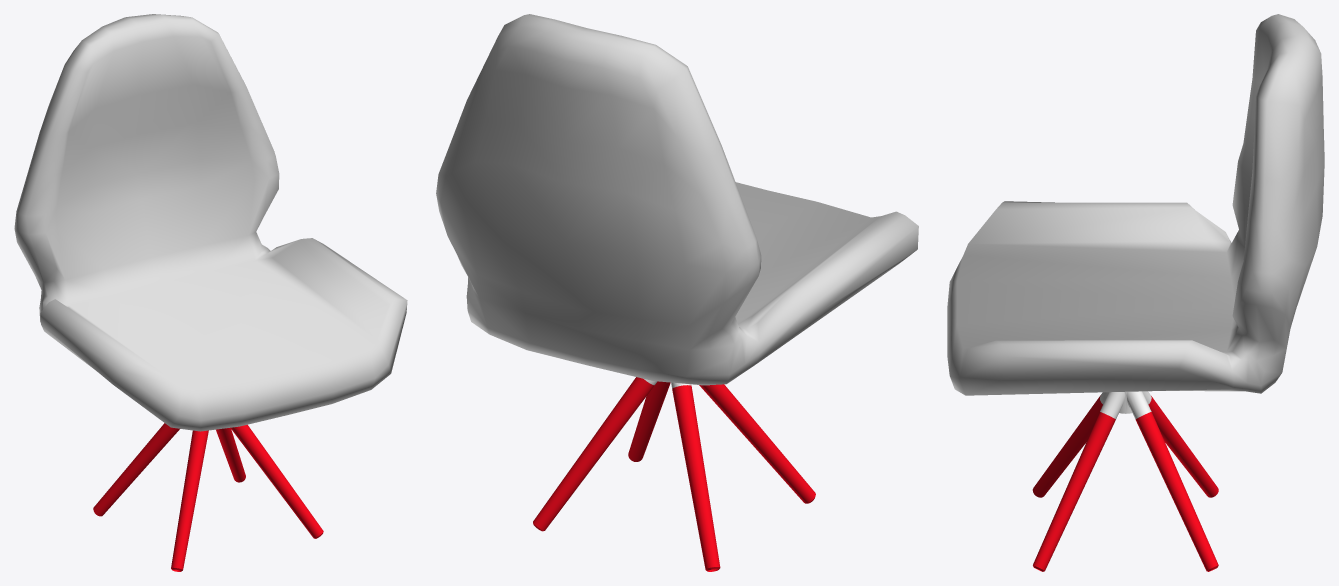
The model's file is Chair.fbx.
3 views of the same model, side by side, from view 1: azimuth 30°, elevation 25°; view 2: azimuth 150°, elevation 25°; view 3: azimuth 270°, elevation 25° (orthographic). The views are drawn at different scales.
Visible parts, largest first — view 1: Assise_v2, Leg_v2; view 2: Assise_v2, Leg_v2; view 3: Assise_v2, Leg_v2.
Part boxes in pixels (bbox=[...]): Assise_v2: bbox=[14, 14, 407, 431]; Leg_v2: bbox=[93, 423, 323, 571]; Assise_v2: bbox=[436, 14, 918, 385]; Leg_v2: bbox=[533, 377, 815, 571]; Assise_v2: bbox=[947, 14, 1324, 395]; Leg_v2: bbox=[1032, 391, 1218, 571].
Bounding box in the file's own units: 65.94 × 96.83 × 66.56.
